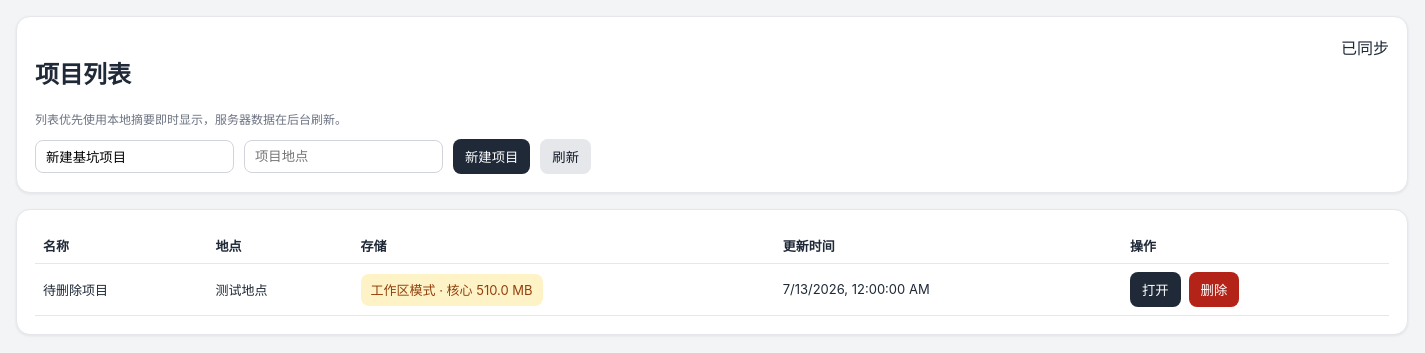
ProjectsPage delete › deletes a project after explicit confirmation
Expected: the text "待删除项目" is shown, [35,263,208,315]
Expected: the text "工作区模式 · 核心 510.0 MB" is shown, [360,274,543,306]
Click the button "删除": (1214,289) [1189,272,1239,307]
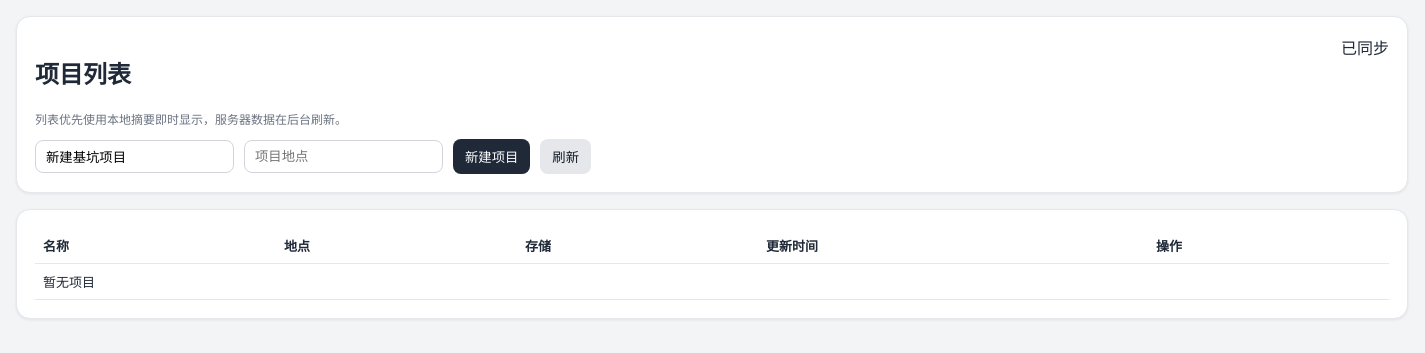
Now the text "待删除项目" is gone
